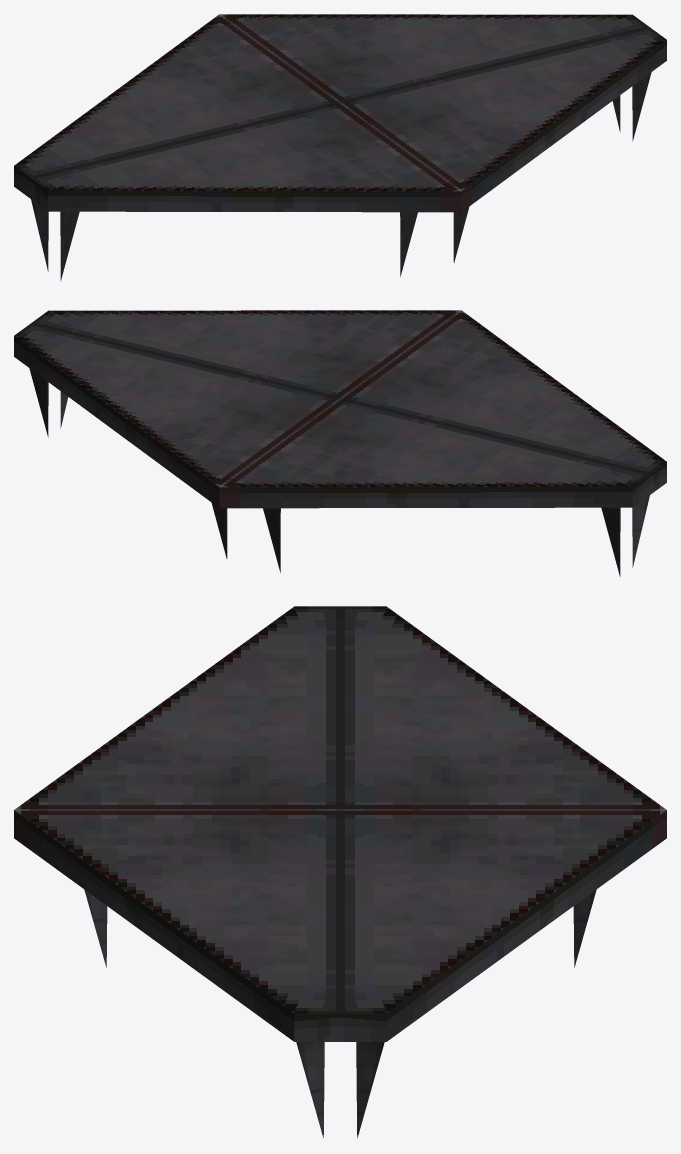
File: frn_jedi_dark_table_s02_l2.fbx
3 renders of one model, top to bottom at view 1: azimuth 30°, elevation 25°; view 2: azimuth 150°, elevation 25°; view 3: azimuth 270°, elevation 25°, orthographic. The views are drawn at different scales.
Parts seen in each view (by area): view 1: mesh_node; view 2: mesh_node; view 3: mesh_node.
Part boxes in pixels (left/top/right/bottom): mesh_node: left=14, top=14, right=666, bottom=280; mesh_node: left=14, top=310, right=666, bottom=576; mesh_node: left=14, top=606, right=666, bottom=1138.
Size of the model in its own units: 4.64 by 0.75 by 3.14.
